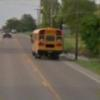buses: (28, 29, 66, 60)
